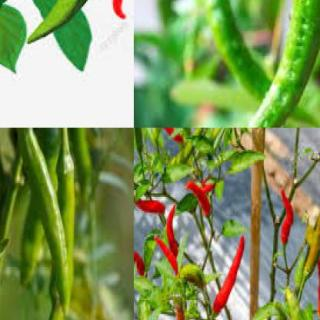green_chilli: (200, 0, 319, 127), (5, 128, 73, 318), (228, 0, 319, 127), (39, 152, 80, 319), (24, 0, 104, 46), (283, 289, 310, 319)
